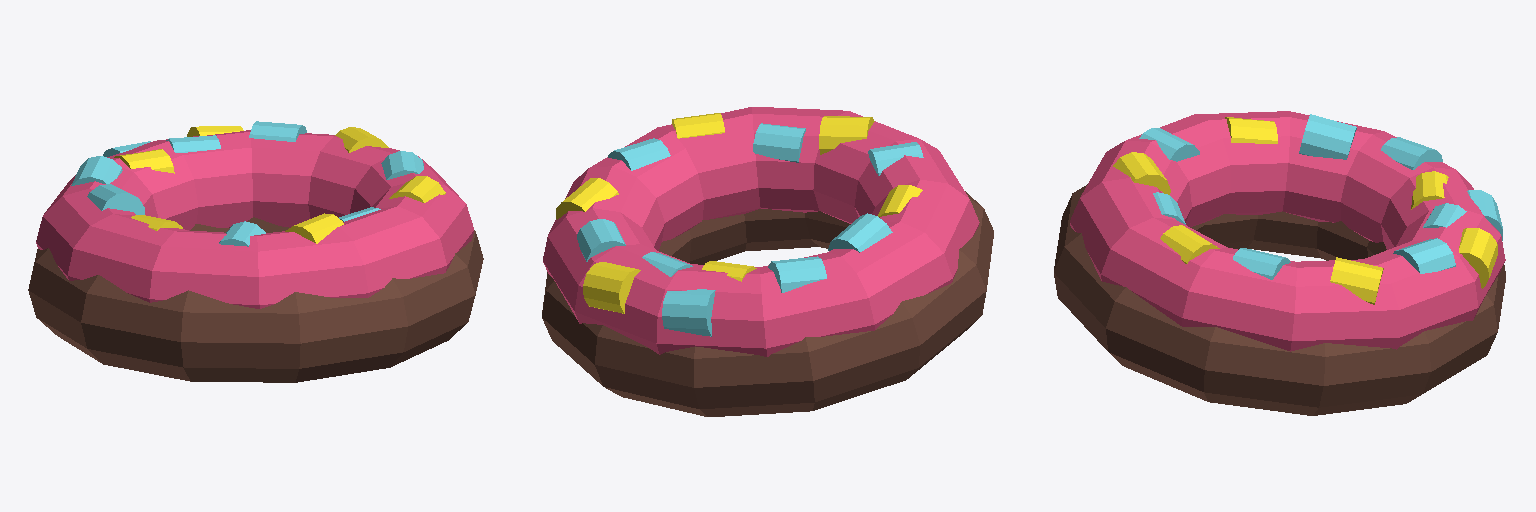
File: Donitsi.obj
The picture shows the model from 3 angles: view 1: azimuth 30°, elevation 25°; view 2: azimuth 150°, elevation 25°; view 3: azimuth 270°, elevation 25°; orthographic projection.
Parts seen in each view (by area): view 1: group[number redacted], group[number redacted], group[number redacted], group[number redacted], group[number redacted], group[number redacted], group[number redacted], group[number redacted], group[number redacted], group[number redacted], group[number redacted], group[number redacted]; view 2: group[number redacted], group[number redacted], group[number redacted], group[number redacted], group[number redacted], group[number redacted], group[number redacted], group[number redacted], group[number redacted], group[number redacted], group[number redacted], group[number redacted] (+4 smaller); view 3: group[number redacted], group[number redacted], group[number redacted], group[number redacted], group[number redacted], group[number redacted], group[number redacted], group[number redacted], group[number redacted], group[number redacted], group[number redacted], group[number redacted] (+3 smaller).
Part boxes in pixels (x1,y1,x2,y2): group[number redacted]: (36, 130, 473, 308); group[number redacted]: (28, 217, 483, 382); group[number redacted]: (87, 184, 144, 214); group[number redacted]: (71, 156, 122, 185); group[number redacted]: (285, 213, 343, 243); group[number redacted]: (249, 121, 306, 141); group[number redacted]: (381, 151, 423, 179); group[number redacted]: (389, 176, 445, 202); group[number redacted]: (114, 149, 174, 173); group[number redacted]: (335, 127, 388, 152); group[number redacted]: (166, 135, 220, 152); group[number redacted]: (219, 221, 265, 246); group[number redacted]: (543, 107, 979, 356); group[number redacted]: (542, 191, 993, 416); group[number redacted]: (662, 289, 715, 336); group[number redacted]: (583, 262, 640, 313); group[number redacted]: (753, 123, 805, 162); group[number redacted]: (819, 116, 874, 154); group[number redacted]: (768, 256, 826, 292); group[number redacted]: (828, 213, 892, 252); group[number redacted]: (577, 219, 625, 261); group[number redacted]: (556, 178, 618, 219); group[number redacted]: (608, 138, 670, 170); group[number redacted]: (672, 113, 724, 138); group[number redacted]: (1070, 111, 1505, 351); group[number redacted]: (1054, 184, 1505, 415); group[number redacted]: (1299, 114, 1356, 159); group[number redacted]: (1330, 257, 1383, 304); group[number redacted]: (1459, 228, 1497, 288); group[number redacted]: (1393, 238, 1455, 273); group[number redacted]: (1113, 152, 1170, 194); group[number redacted]: (1381, 137, 1442, 169); group[number redacted]: (1225, 117, 1277, 143); group[number redacted]: (1160, 225, 1219, 263); group[number redacted]: (1233, 248, 1290, 279); group[number redacted]: (1139, 128, 1199, 161).
Bounding box in the file's own units: 0.1877 × 0.0822 × 0.187.